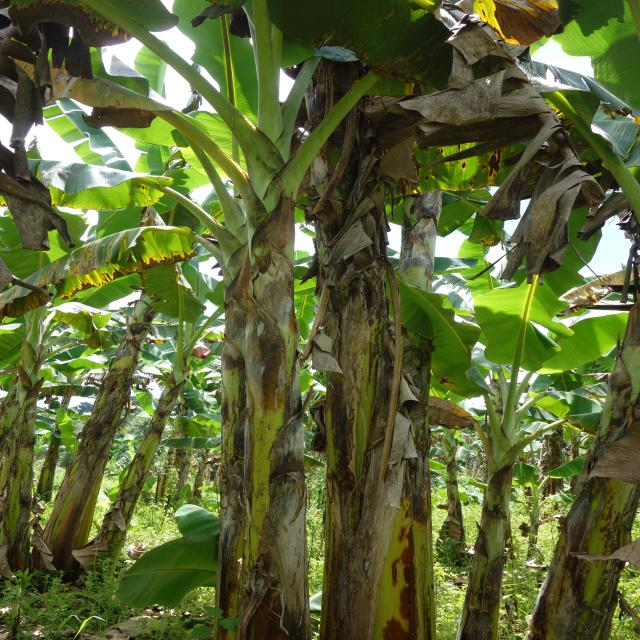Banana-plant: (301, 93, 436, 638), (206, 59, 312, 640), (23, 286, 174, 568), (527, 308, 640, 640), (0, 301, 53, 578), (470, 376, 518, 640)
